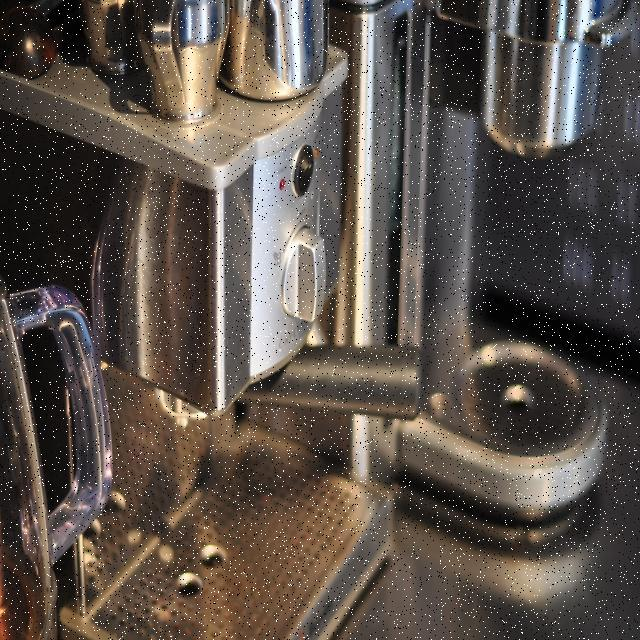Coffee-Machine: (11, 1, 639, 632)
